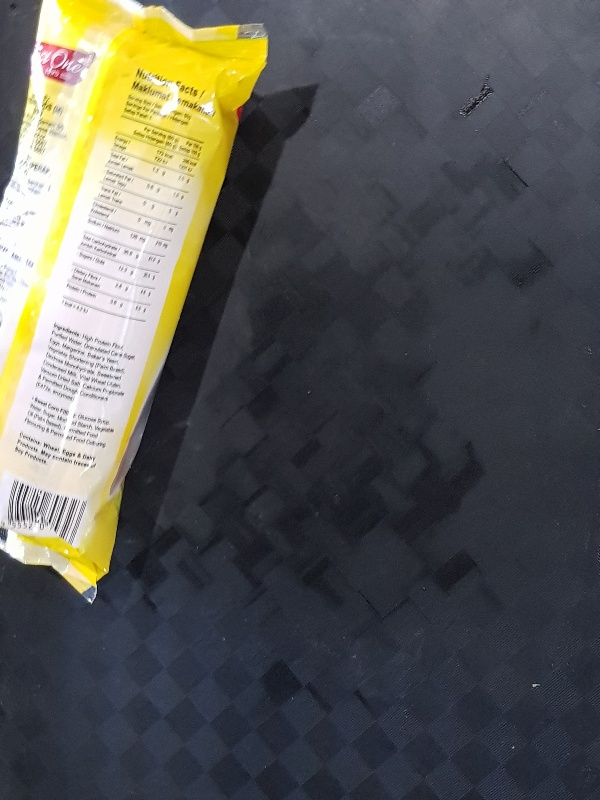Tinges Roll Sweet Corn: (1, 1, 268, 605)
